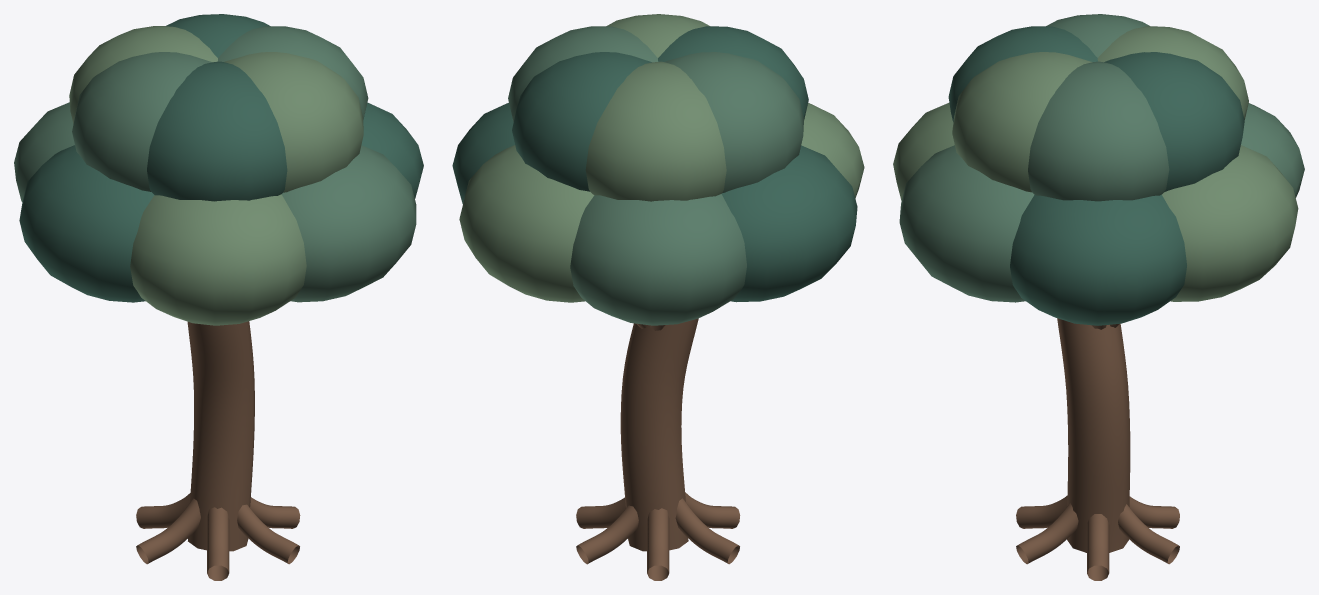
File: oak.glb
The picture shows the model from 3 angles, left to right: view 1: azimuth 30°, elevation 25°; view 2: azimuth 150°, elevation 25°; view 3: azimuth 270°, elevation 25°; orthographic projection.
Parts seen in each view (by area): view 1: Feuillage0, Feuillage2, Feuillage1, Écorce; view 2: Feuillage2, Feuillage1, Feuillage0, Écorce; view 3: Feuillage1, Feuillage0, Feuillage2, Écorce.
Boxes of the visible parts, bbox=[...] form: Feuillage0: bbox=[19, 14, 423, 302]; Feuillage2: bbox=[69, 26, 363, 325]; Feuillage1: bbox=[14, 26, 416, 302]; Écorce: bbox=[136, 321, 300, 580]; Feuillage2: bbox=[459, 14, 864, 302]; Feuillage1: bbox=[508, 26, 803, 325]; Feuillage0: bbox=[452, 26, 857, 302]; Écorce: bbox=[576, 318, 740, 580]; Feuillage1: bbox=[899, 14, 1304, 302]; Feuillage0: bbox=[948, 26, 1244, 325]; Feuillage2: bbox=[893, 26, 1298, 301]; Écorce: bbox=[1016, 318, 1179, 580].
Bounding box in the file's own units: 8.95 × 11.28 × 8.48.
